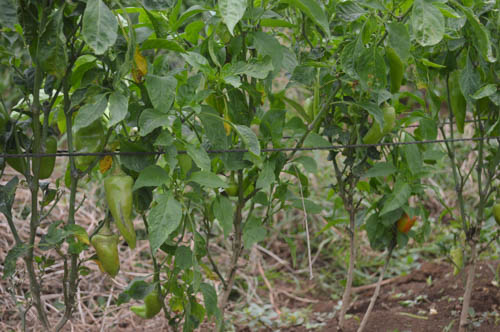ChiliPepper: (105, 172, 138, 247), (91, 233, 127, 278), (364, 106, 394, 149), (387, 44, 408, 97)
